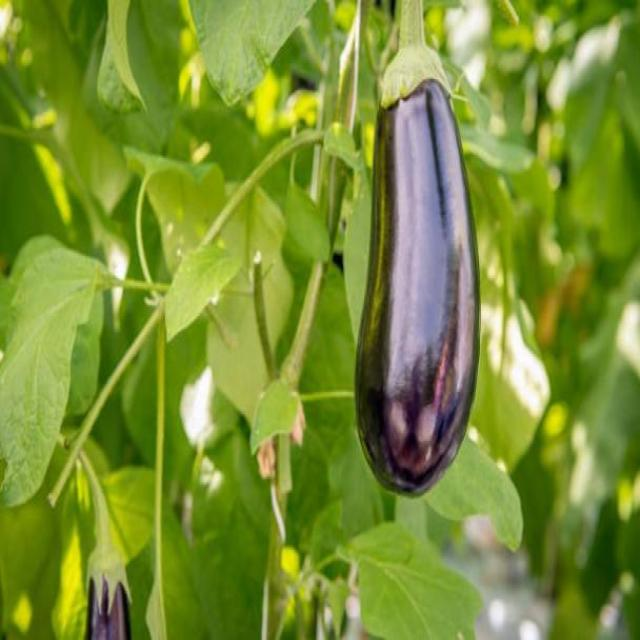eggplant: (355, 54, 483, 498), (84, 542, 135, 640)
